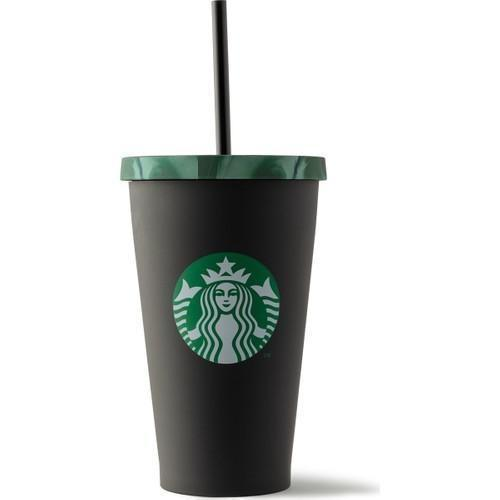cup-disposable: (119, 146, 330, 499)
